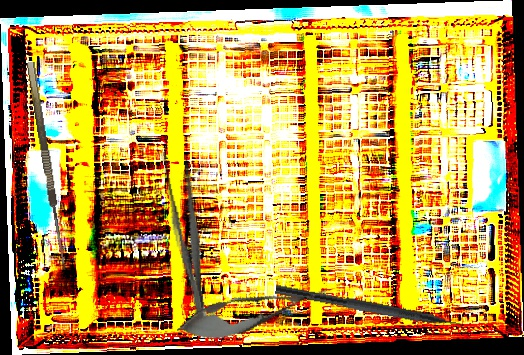Chopper: (272, 284, 475, 343)
Dressing Forceps: (157, 147, 219, 327)
Hook Surgical: (26, 59, 79, 272)
Micro Scissor: (172, 272, 335, 351)
